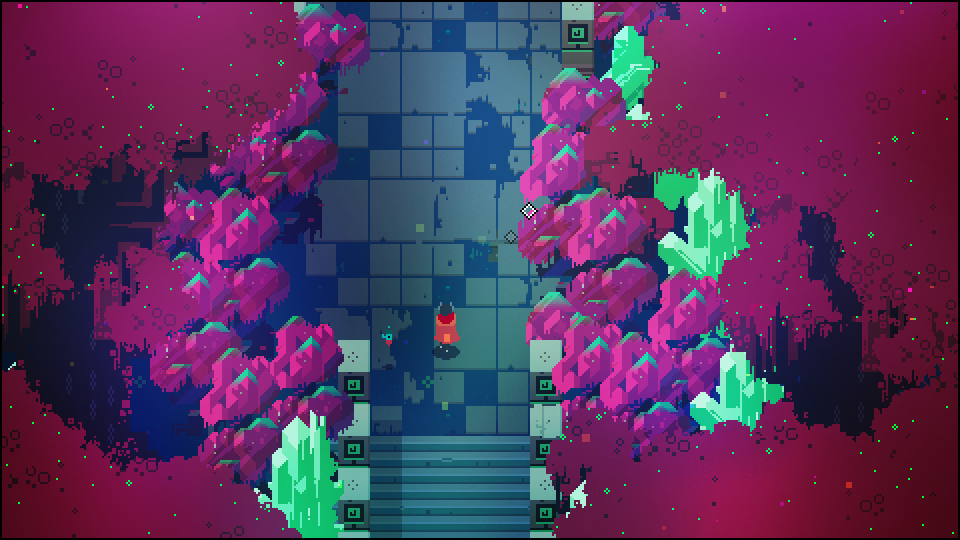player: (433, 301, 459, 346)
